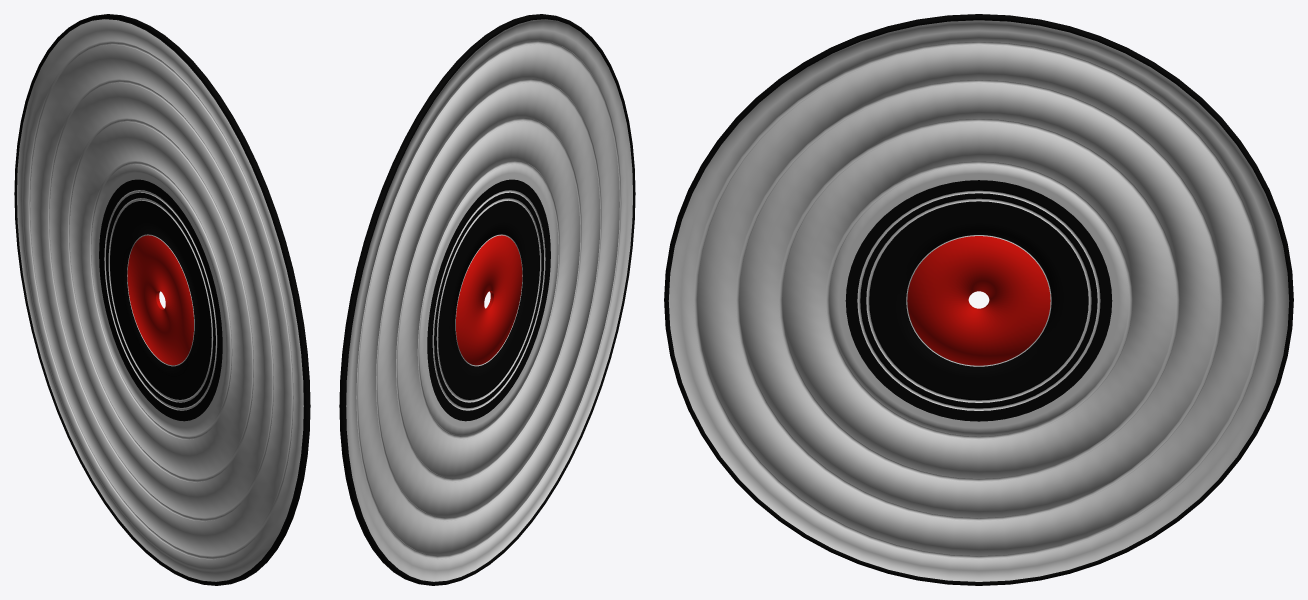
The model's file is Vinyl_disc.obj.
3 renders of one model, left to right at view 1: azimuth 30°, elevation 25°; view 2: azimuth 150°, elevation 25°; view 3: azimuth 270°, elevation 25°, orthographic. The views are drawn at different scales.
Visible parts, largest first — view 1: Disc_Cylinder_Grey, Disc_Cylinder_Black, Disc_Cylinder_Red; view 2: Disc_Cylinder_Grey, Disc_Cylinder_Black, Disc_Cylinder_Red; view 3: Disc_Cylinder_Grey, Disc_Cylinder_Black, Disc_Cylinder_Red.
Part boxes in pixels (x1,y1,x2,y2): Disc_Cylinder_Grey: (17, 19, 303, 581); Disc_Cylinder_Black: (14, 14, 310, 585); Disc_Cylinder_Red: (127, 235, 193, 365); Disc_Cylinder_Grey: (346, 19, 632, 581); Disc_Cylinder_Black: (339, 14, 635, 585); Disc_Cylinder_Red: (456, 235, 522, 365); Disc_Cylinder_Grey: (668, 20, 1289, 581); Disc_Cylinder_Black: (664, 14, 1293, 585); Disc_Cylinder_Red: (907, 236, 1050, 365).
Bounding box in the file's own units: 0.052 × 4.96 × 4.96.
